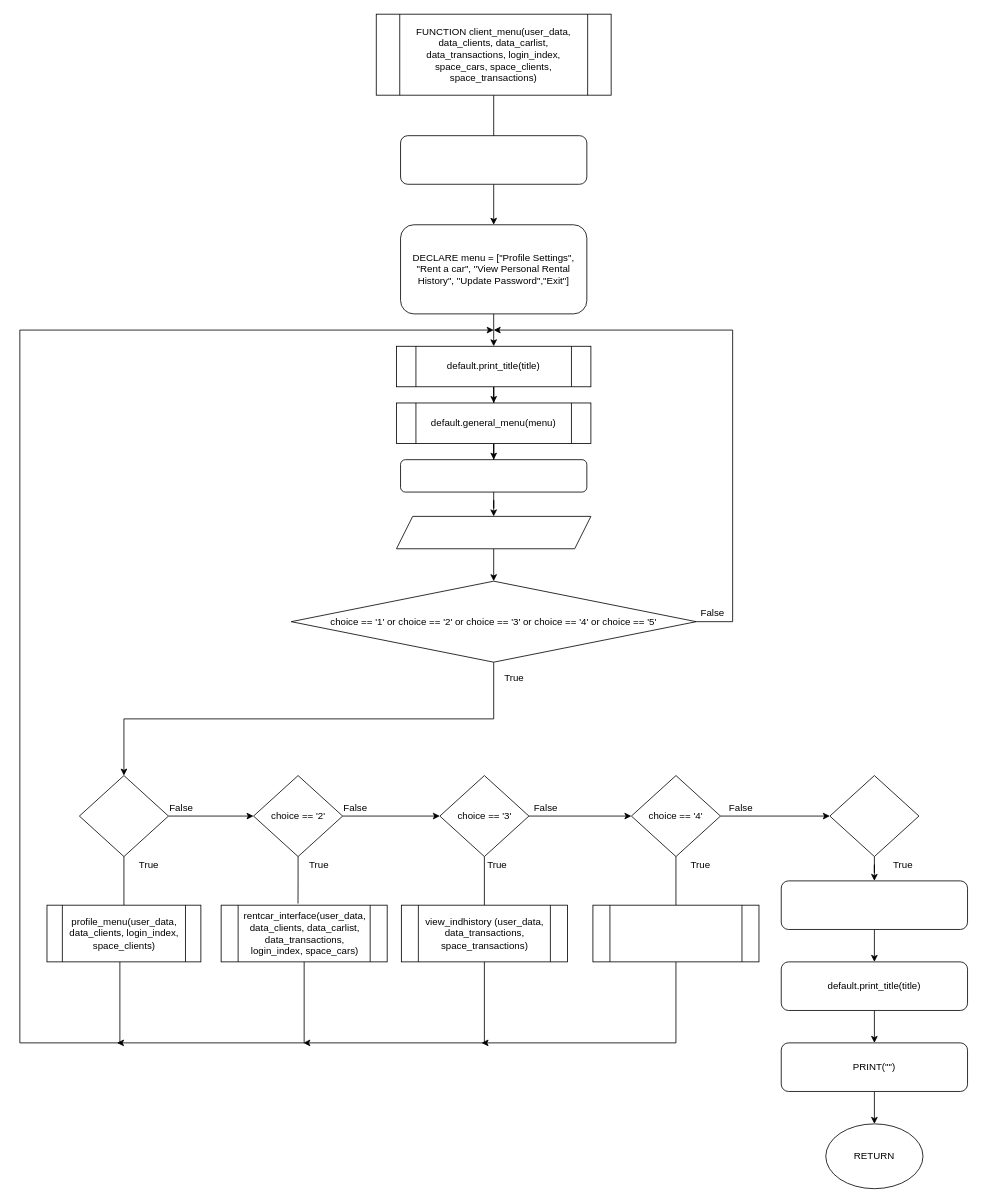
Some shapes in this 982 by 1203 pixel diagram are drawn without their labels. The centre of each missing label's shape, as x and y in pixels:
choice = input("Please Select: "): pixel 493 532
choice == '1': pixel 123 816
choice == '5': pixel 874 816
PRINT("Please Select: "): pixel 493 475
title = user_data[2] + ", welcome back": pixel 493 159
title = user_data[2] + ", you have successfully log out.": pixel 874 904
update_password(user_data, data_clients, login_index, space_clients): pixel 675 933
